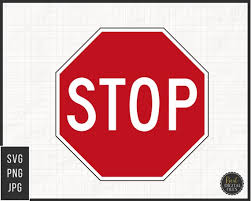stop sign: (53, 27, 210, 181)
